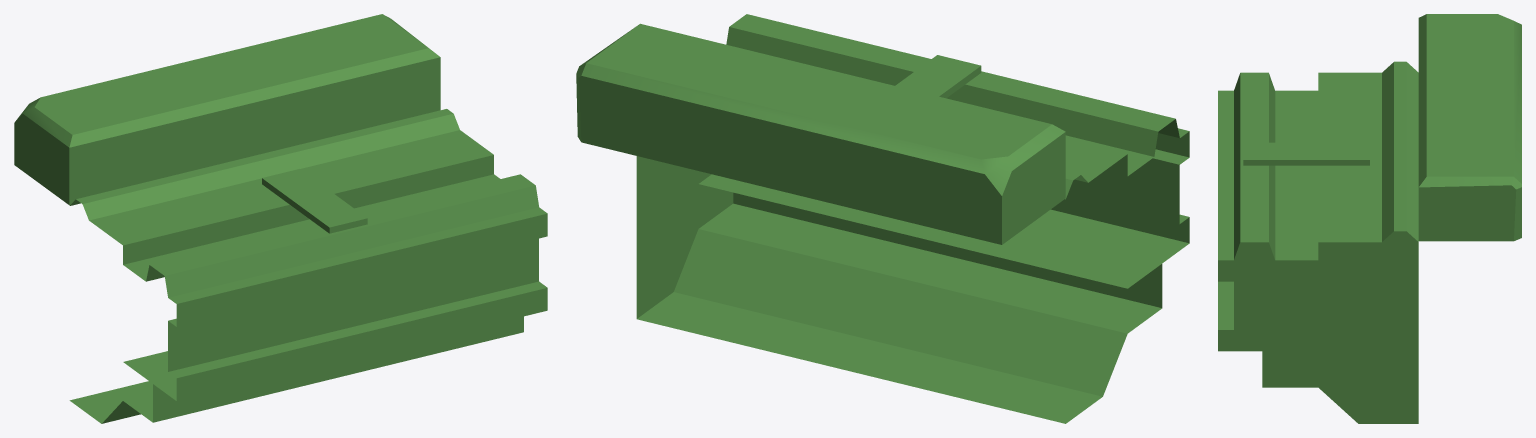
Rendered from parapet top 1short.FBX.
3 views of the same model, side by side, from view 1: azimuth 30°, elevation 25°; view 2: azimuth 150°, elevation 25°; view 3: azimuth 270°, elevation 25° (orthographic). The views are drawn at different scales.
Parts seen in each view (by area): view 1: Object358; view 2: Object358; view 3: Object358.
Part boxes in pixels (box(x1,y1,x2,y2)): Object358: box(14, 14, 547, 423); Object358: box(576, 14, 1189, 423); Object358: box(1218, 14, 1521, 423).
Bounding box in the file's own units: 1 × 0.6706 × 0.7574.
